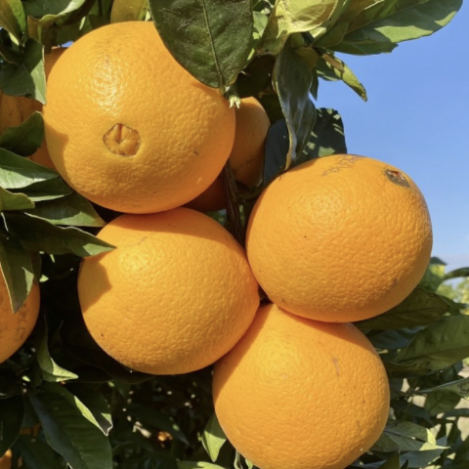orange: (35, 13, 257, 215), (185, 291, 412, 460), (62, 194, 265, 372), (246, 157, 454, 319)
